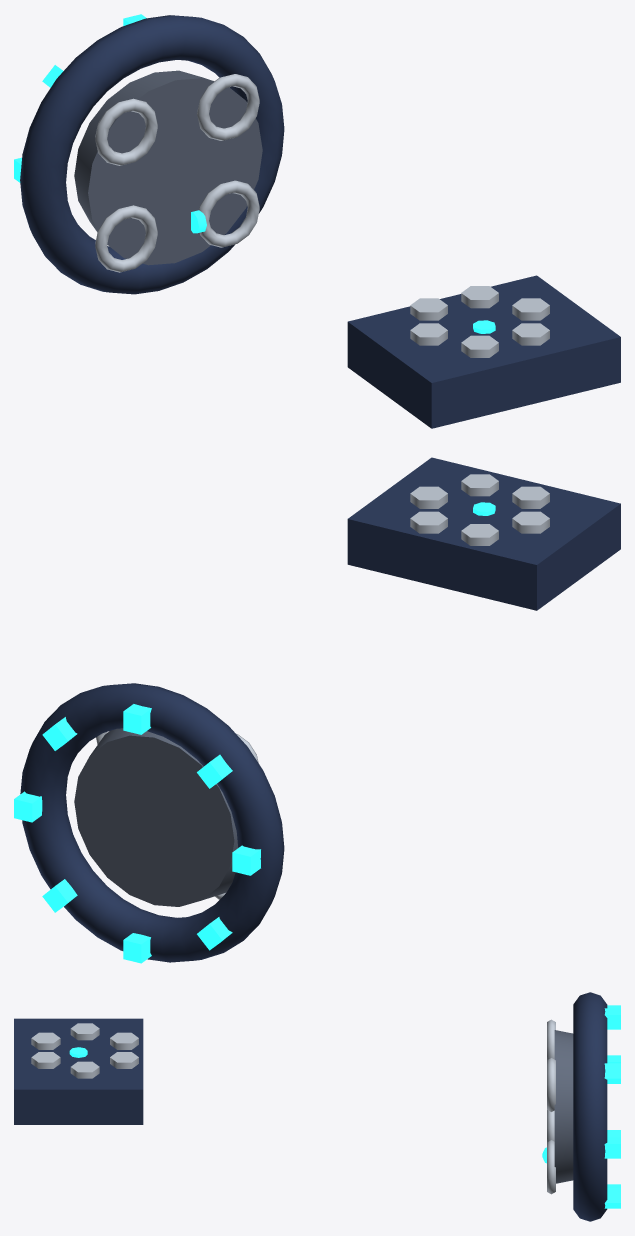
File: tower_skywatch_damage_s4.glb
3 renders of one model, top to bottom at view 1: azimuth 30°, elevation 25°; view 2: azimuth 150°, elevation 25°; view 3: azimuth 270°, elevation 25°, orthographic. The views are drawn at different scales.
Parts seen in each view (by area): view 1: skywatch_fuse_ring, skywatch_housing_armour, skywatch_fuse_collar, skywatch_armour_bolts, skywatch_crown3, skywatch_crown2, skywatch_crown1, skywatch_crown0; view 2: skywatch_fuse_ring, skywatch_housing_armour, skywatch_fuse_collar, skywatch_armour_bolts, skywatch_fuse_node2, skywatch_fuse_node0, skywatch_fuse_node6, skywatch_fuse_node4; view 3: skywatch_housing_armour, skywatch_fuse_ring, skywatch_fuse_collar, skywatch_armour_bolts, skywatch_crown1, skywatch_crown0, skywatch_fuse_node4, skywatch_fuse_node3, skywatch_fuse_node2.
Boxes of the visible parts, x1,y1,x2,y2 form: skywatch_fuse_ring: (20,15,284,294); skywatch_housing_armour: (347,275,620,428); skywatch_fuse_collar: (74,70,262,265); skywatch_armour_bolts: (410,286,549,357); skywatch_crown3: (95,98,157,165); skywatch_crown2: (95,205,157,272); skywatch_crown1: (197,74,259,140); skywatch_crown0: (199,180,259,247); skywatch_fuse_ring: (20,683,284,962); skywatch_housing_armour: (347,457,620,610); skywatch_fuse_collar: (74,728,238,906); skywatch_armour_bolts: (410,474,549,545); skywatch_fuse_node2: (123,704,151,734); skywatch_fuse_node0: (232,845,260,875); skywatch_fuse_node6: (123,933,151,963); skywatch_fuse_node4: (14,791,42,822); skywatch_housing_armour: (14,1018,143,1124); skywatch_fuse_ring: (573,992,607,1221); skywatch_fuse_collar: (554,1030,573,1183); skywatch_armour_bolts: (31,1023,138,1078); skywatch_crown1: (547,1058,555,1111); skywatch_crown0: (547,1140,555,1194); skywatch_fuse_node4: (604,1137,620,1158); skywatch_fuse_node3: (604,1063,620,1083); skywatch_fuse_node2: (604,1008,620,1029).
Size of the model in its own units: 0.71 by 0.71 by 1.88.
